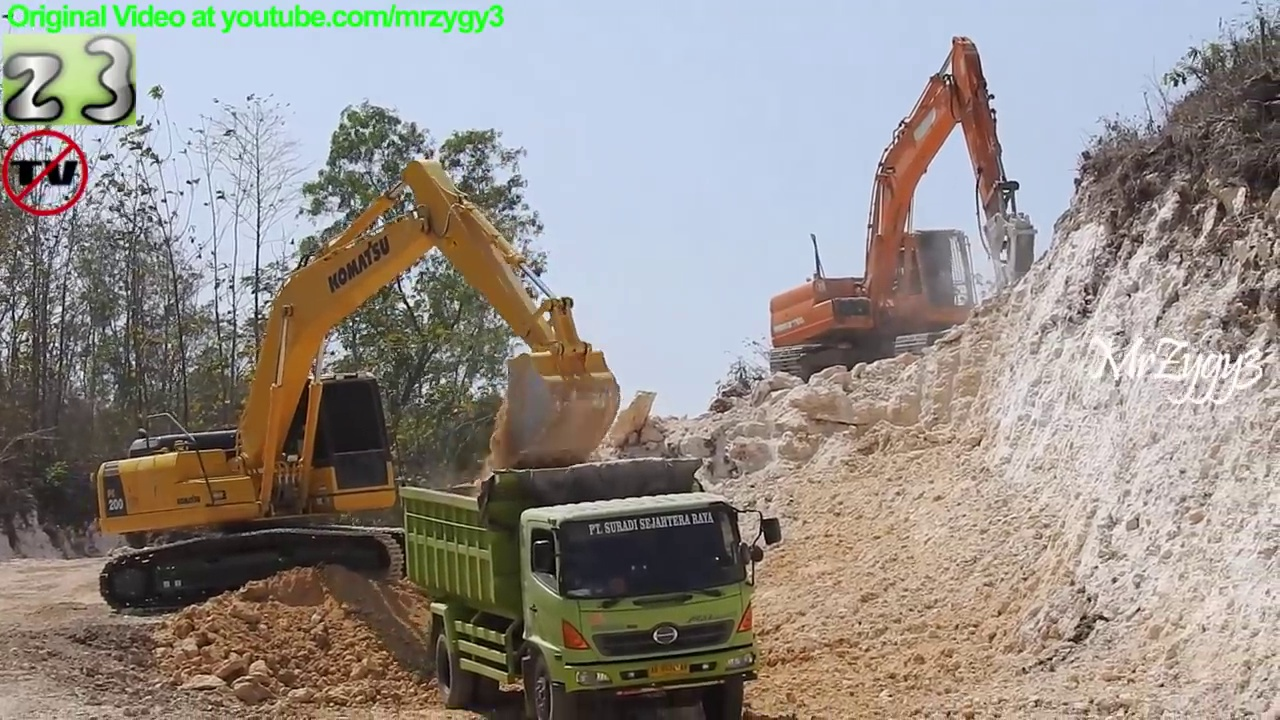excavator: (91, 147, 631, 623), (761, 36, 1044, 385)
truck: (398, 457, 787, 720)
